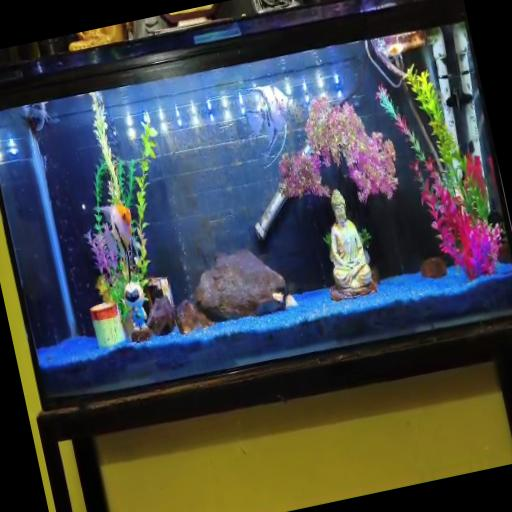Fish: (246, 86, 293, 163), (101, 203, 133, 276), (25, 101, 58, 132)
